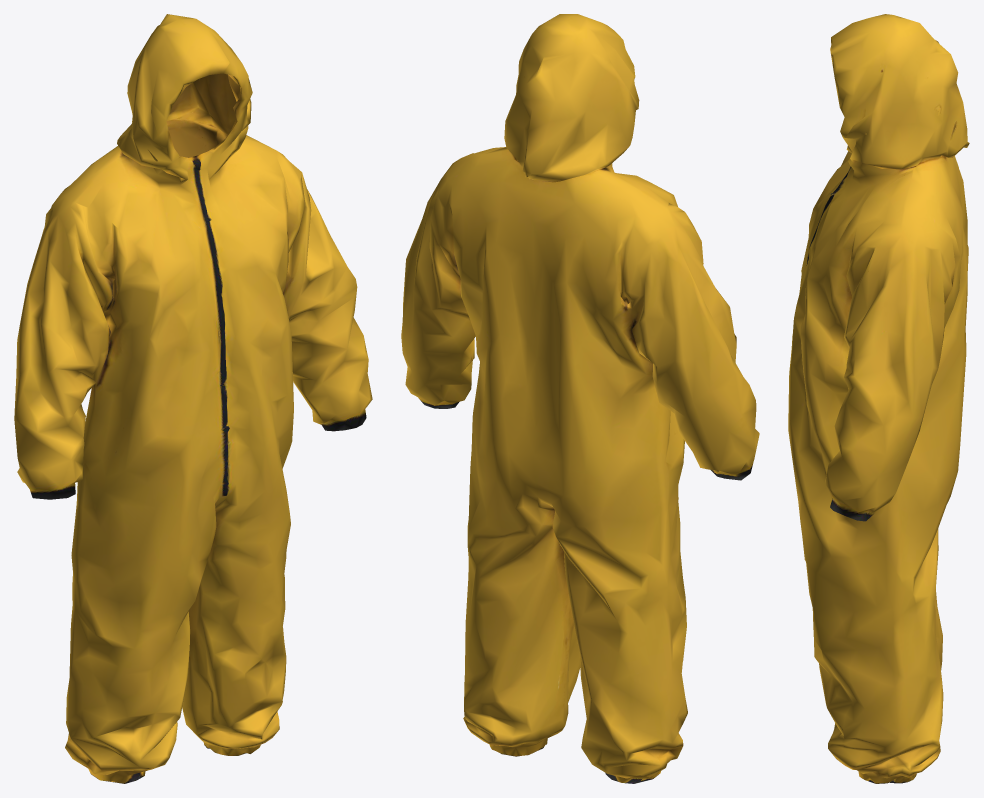
Rendered from PPE_A_SuitWear.fbx.
The picture shows the model from 3 angles, left to right: view 1: azimuth 30°, elevation 25°; view 2: azimuth 150°, elevation 25°; view 3: azimuth 270°, elevation 25°; orthographic projection.
Parts seen in each view (by area): view 1: tripo_node_5cb465ec; view 2: tripo_node_5cb465ec; view 3: tripo_node_5cb465ec.
Boxes of the visible parts, x1,y1,x2,y2 form: tripo_node_5cb465ec: [14, 14, 372, 783]; tripo_node_5cb465ec: [401, 14, 759, 783]; tripo_node_5cb465ec: [788, 14, 969, 783].
Bounding box in the file's own units: 0.4855 × 0.98 × 0.2204.
